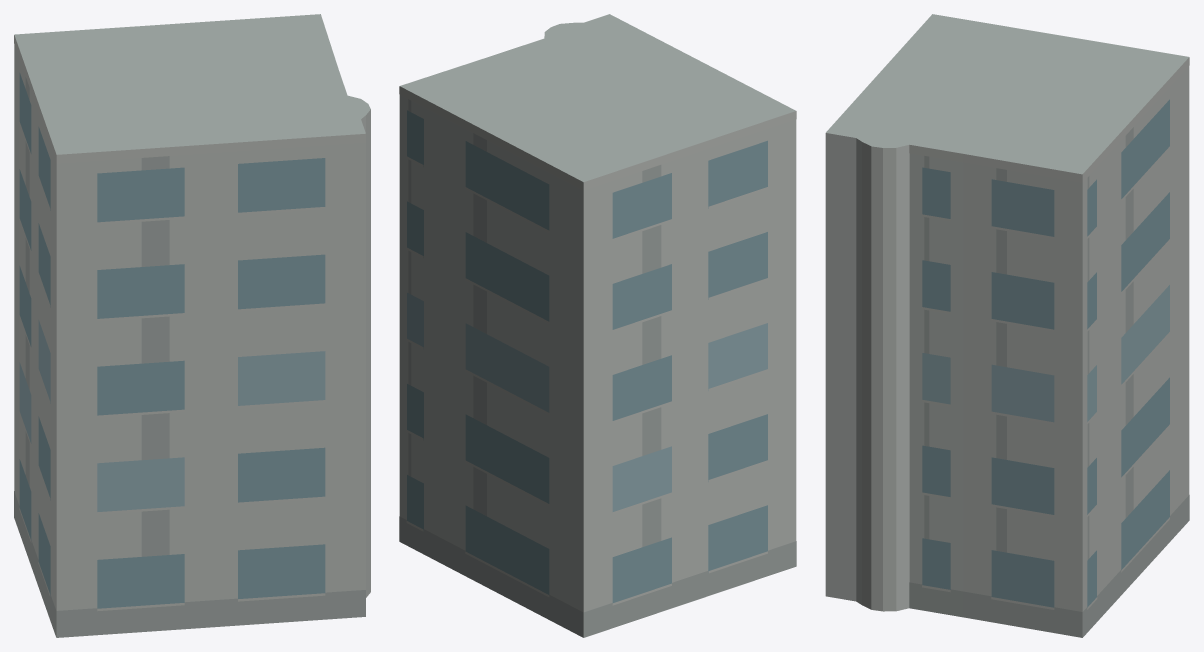
Rendered from survey-upis-32726287.glb.
3 views of the same model, side by side, from view 1: azimuth 30°, elevation 25°; view 2: azimuth 150°, elevation 25°; view 3: azimuth 270°, elevation 25° (orthographic). The views are drawn at different scales.
Parts seen in each view (by area): view 1: survey-upis-32726287.tmp; view 2: survey-upis-32726287.tmp; view 3: survey-upis-32726287.tmp.
Boxes of the visible parts, bbox=[...] form: survey-upis-32726287.tmp: bbox=[14, 14, 370, 637]; survey-upis-32726287.tmp: bbox=[399, 14, 796, 637]; survey-upis-32726287.tmp: bbox=[825, 14, 1189, 637].
Size of the model in its own units: 9.8 by 13.2 by 9.4.
